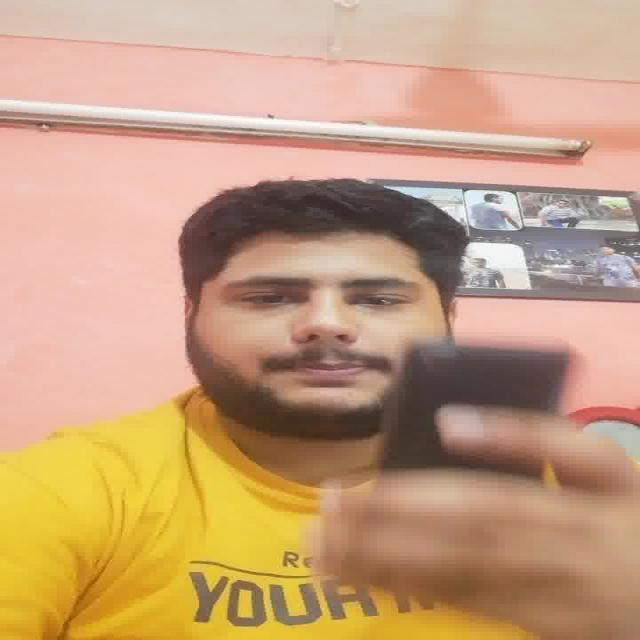Phone: (383, 340, 579, 477)
